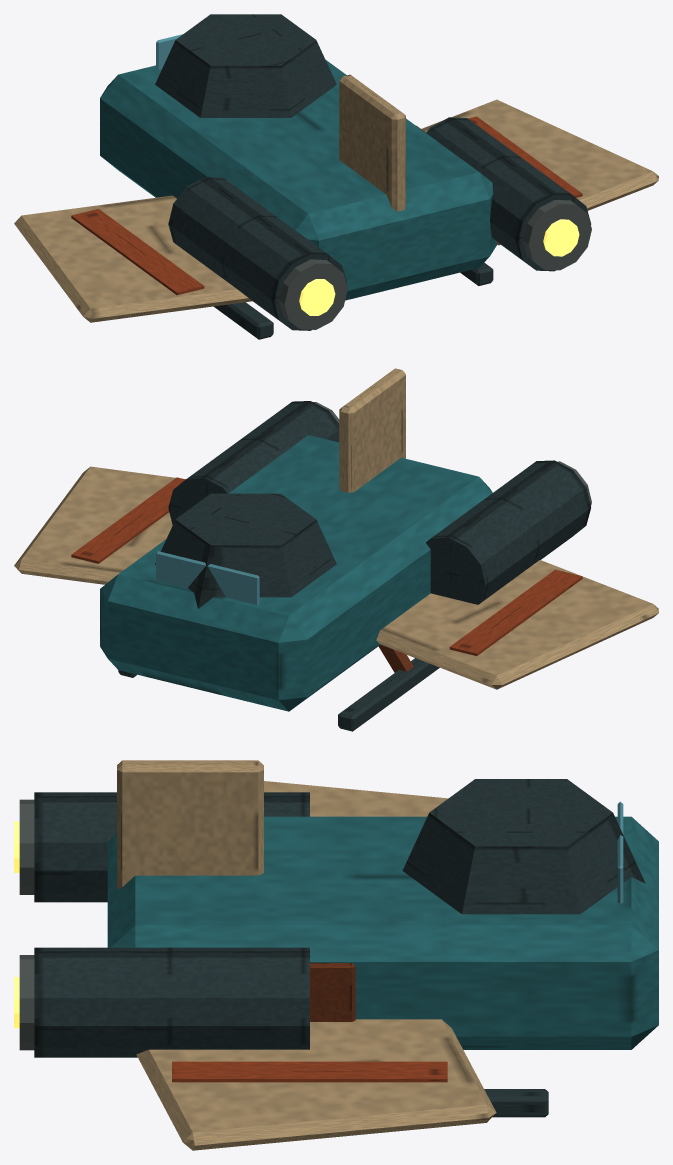
Rendered from ship.glb.
3 views of the same model, one above another, from view 1: azimuth 30°, elevation 25°; view 2: azimuth 150°, elevation 25°; view 3: azimuth 270°, elevation 25° (orthographic). The views are drawn at different scales.
Visible parts, largest first — view 1: ship_paint.008, ship_metal.008, ship_pale.008, ship_rubber.008, ship_cloth.008, ship_orange.008; view 2: ship_paint.008, ship_metal.008, ship_pale.008, ship_cloth.008, ship_glass.008; view 3: ship_paint.008, ship_metal.008, ship_pale.008, ship_cloth.008, ship_rubber.008, ship_rust.008, ship_glass.008, ship_orange.008.
Part boxes in pixels (bbox=[...]): ship_paint.008: bbox=[100, 60, 497, 300]; ship_metal.008: bbox=[155, 14, 591, 339]; ship_pale.008: bbox=[14, 74, 658, 322]; ship_rubber.008: bbox=[279, 200, 591, 329]; ship_cloth.008: bbox=[71, 116, 582, 295]; ship_orange.008: bbox=[299, 219, 579, 315]; ship_paint.008: bbox=[100, 435, 492, 711]; ship_metal.008: bbox=[118, 401, 591, 731]; ship_pale.008: bbox=[14, 368, 658, 689]; ship_cloth.008: bbox=[71, 477, 582, 655]; ship_glass.008: bbox=[156, 551, 259, 604]; ship_paint.008: bbox=[107, 816, 658, 1049]; ship_metal.008: bbox=[34, 779, 645, 1117]; ship_pale.008: bbox=[117, 760, 496, 1150]; ship_cloth.008: bbox=[172, 1061, 447, 1082]; ship_rubber.008: bbox=[19, 799, 34, 1050]; ship_rust.008: bbox=[310, 963, 355, 1021]; ship_glass.008: bbox=[617, 801, 623, 903]; ship_orange.008: bbox=[14, 821, 19, 1028].
Bounding box in the file's own units: 9.44 × 3.38 × 7.02.
Materials: 8 (5 with a texture image).
